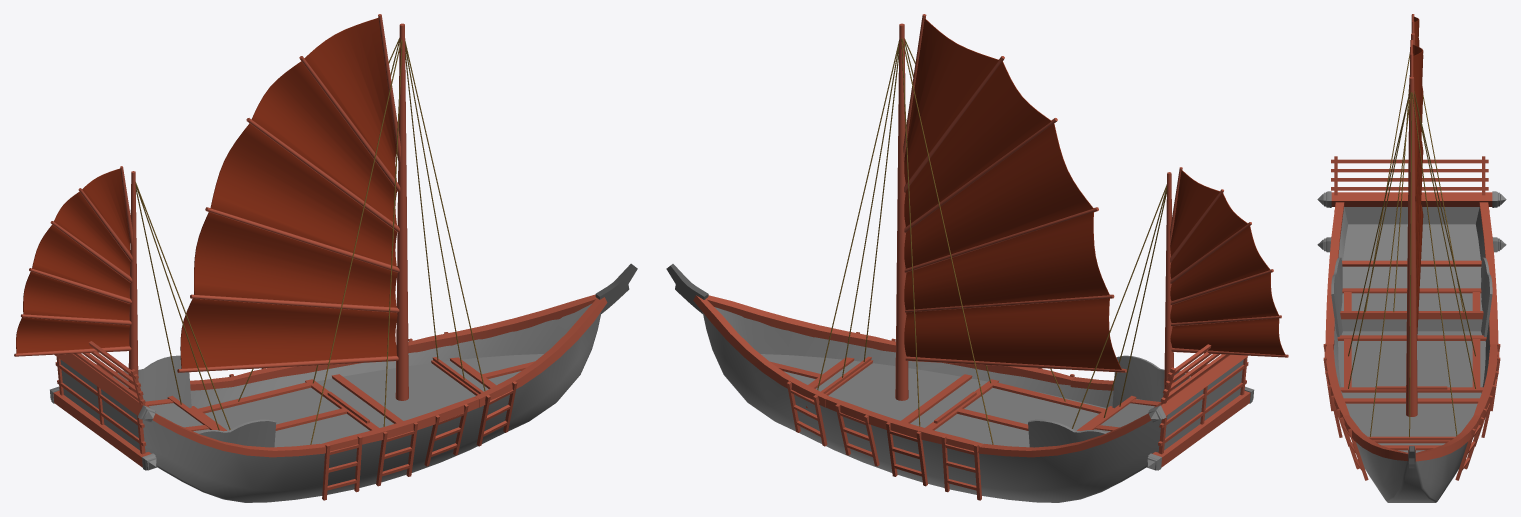
The model's file is SM_boat_fareast.fbx.
The picture shows the model from 3 angles, left to right: view 1: azimuth 30°, elevation 25°; view 2: azimuth 150°, elevation 25°; view 3: azimuth 270°, elevation 25°; orthographic projection. The views are drawn at different scales.
Visible parts, largest first — view 1: Plane043; view 2: Plane043; view 3: Plane043.
Part boxes in pixels (box(x1,y1,x2,y2)): Plane043: box(14, 14, 637, 502); Plane043: box(666, 14, 1288, 502); Plane043: box(1317, 14, 1506, 502).
Bounding box in the file's own units: 705 × 487 × 206.
